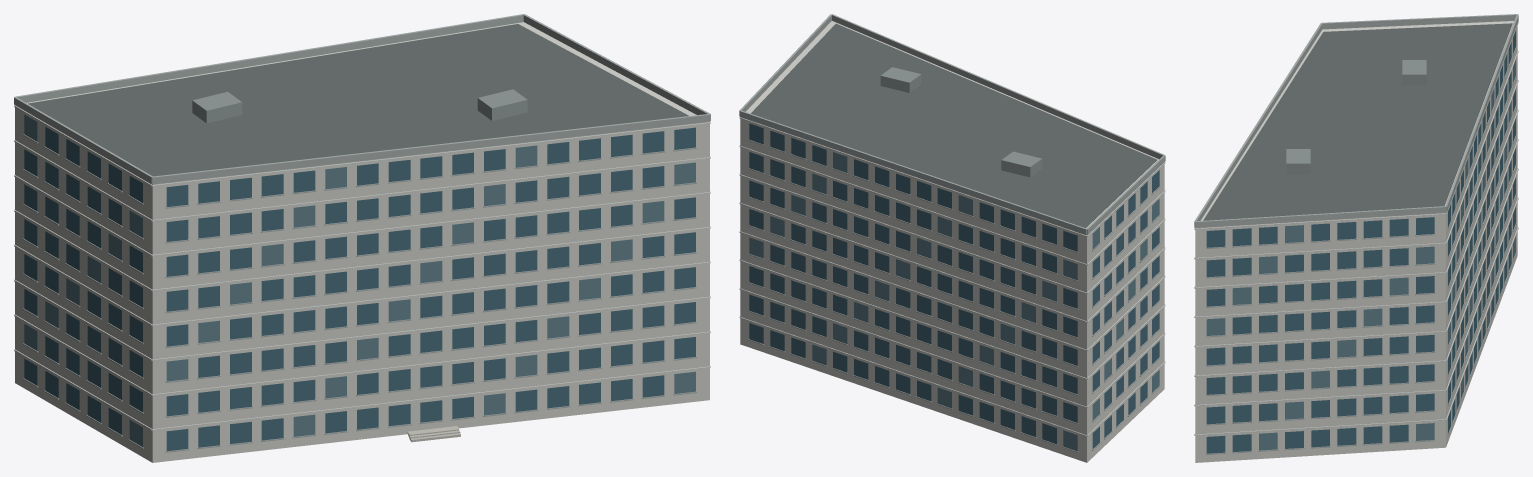
The model's file is 东侧办公园区-023.glb.
3 views of the same model, side by side, from view 1: azimuth 30°, elevation 25°; view 2: azimuth 150°, elevation 25°; view 3: azimuth 270°, elevation 25° (orthographic). The views are drawn at different scales.
Parts seen in each view (by area): view 1: 东侧办公园区-023; view 2: 东侧办公园区-023; view 3: 东侧办公园区-023.
Boxes of the visible parts, box(x1,y1,x2,y2) form: 东侧办公园区-023: box(14, 14, 710, 462); 东侧办公园区-023: box(739, 14, 1165, 462); 东侧办公园区-023: box(1194, 14, 1518, 462).
Bounding box in the file's own units: 56.92 × 31.42 × 37.51.
